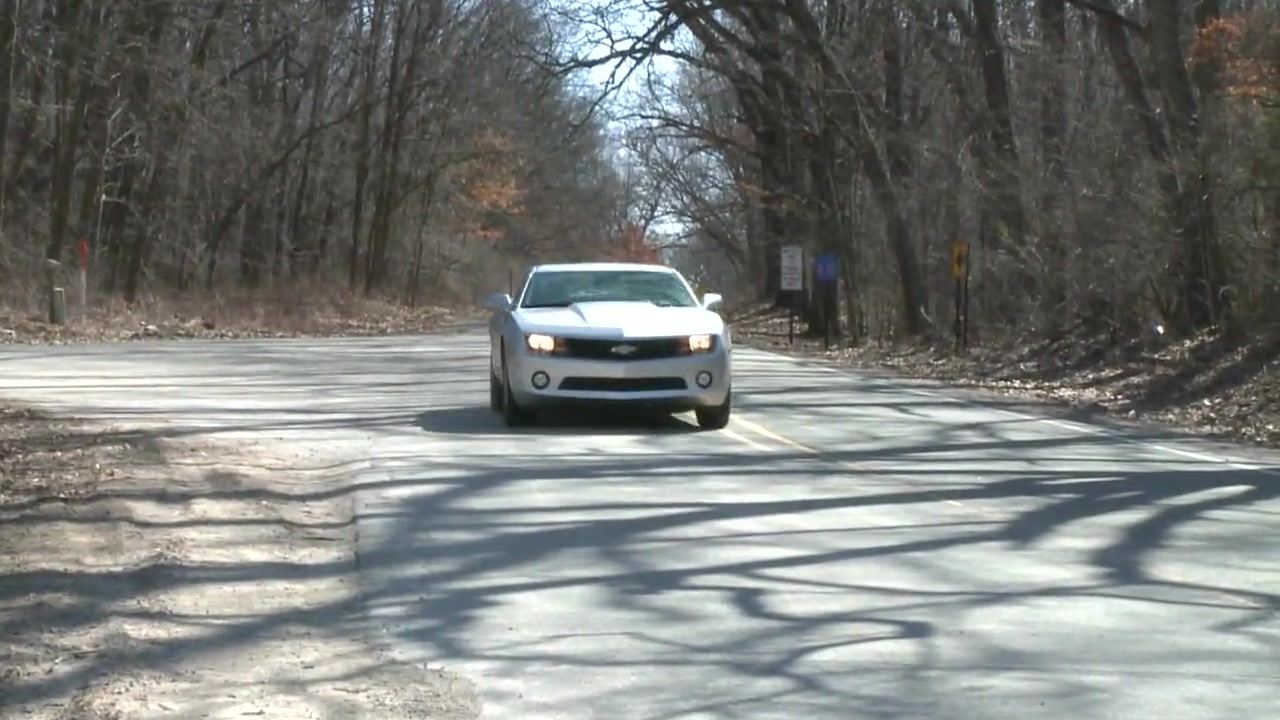car: (490, 259, 740, 432)
